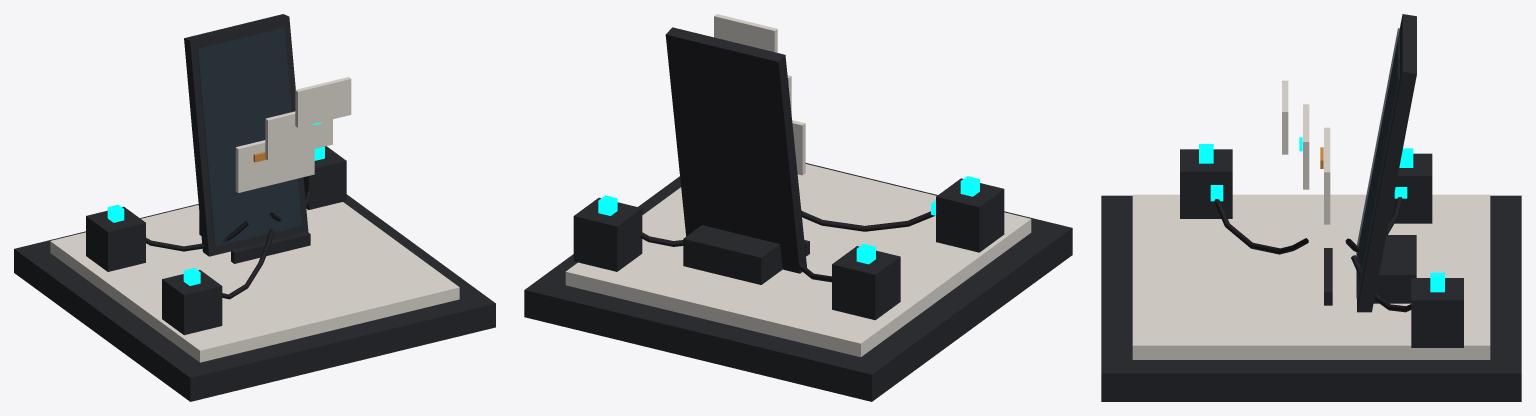
File: mobile_scene.glb
The picture shows the model from 3 angles, left to right: view 1: azimuth 30°, elevation 25°; view 2: azimuth 150°, elevation 25°; view 3: azimuth 270°, elevation 25°; orthographic projection. The views are drawn at different scales.
Visible parts, largest first — view 1: PROP_plinth, HERO_mobile_phone, PROP_mobile_phone_screen, PROP_network_node_01, PROP_network_node_00, PROP_ui_card_00, PROP_ui_card_01, PROP_ui_card_02, PROP_network_node_02, PROP_mobile_stand, PROP_network_cable_00, PROP_network_cable_01; view 2: PROP_plinth, HERO_mobile_phone, PROP_network_node_02, PROP_network_node_01, PROP_network_node_00, PROP_mobile_stand, PROP_ui_card_02, PROP_network_cable_01, PROP_ui_card_00; view 3: PROP_plinth, HERO_mobile_phone, PROP_network_node_02, PROP_network_node_01, PROP_mobile_stand, PROP_mobile_phone_screen, PROP_network_node_00, PROP_network_cable_01, PROP_ui_card_00, PROP_ui_card_01, PROP_ui_card_02, PROP_network_cable_02.
Part boxes in pixels (<box>): PROP_plinth: <box>14,194,495,401</box>; HERO_mobile_phone: <box>184,14,308,256</box>; PROP_mobile_phone_screen: <box>197,28,302,246</box>; PROP_network_node_01: <box>162,268,222,335</box>; PROP_network_node_00: <box>86,204,145,271</box>; PROP_ui_card_00: <box>235,140,314,192</box>; PROP_ui_card_01: <box>265,111,332,160</box>; PROP_ui_card_02: <box>295,77,351,127</box>; PROP_network_node_02: <box>303,146,346,209</box>; PROP_mobile_stand: <box>199,213,310,263</box>; PROP_network_cable_00: <box>146,221,248,251</box>; PROP_network_cable_01: <box>222,228,274,299</box>; PROP_plinth: <box>524,163,1072,401</box>; HERO_mobile_phone: <box>665,27,806,273</box>; PROP_network_node_02: <box>573,195,642,271</box>; PROP_network_node_01: <box>936,176,1004,252</box>; PROP_network_node_00: <box>832,243,900,320</box>; PROP_mobile_stand: <box>683,225,809,284</box>; PROP_ui_card_02: <box>714,14,777,52</box>; PROP_network_cable_01: <box>801,210,934,231</box>; PROP_ui_card_00: <box>792,120,805,175</box>; PROP_plinth: <box>1101,194,1521,401</box>; HERO_mobile_phone: <box>1357,14,1416,312</box>; PROP_network_node_02: <box>1411,272,1463,347</box>; PROP_network_node_01: <box>1180,144,1232,218</box>; PROP_mobile_stand: <box>1324,235,1416,305</box>; PROP_mobile_phone_screen: <box>1356,28,1399,298</box>; PROP_network_node_00: <box>1389,148,1432,223</box>; PROP_network_cable_01: <box>1210,189,1308,254</box>; PROP_ui_card_00: <box>1324,127,1330,224</box>; PROP_ui_card_01: <box>1303,104,1309,189</box>; PROP_ui_card_02: <box>1282,80,1288,154</box>; PROP_network_cable_02: <box>1351,255,1411,312</box>.
Size of the model in its own units: 4 by 2.98 by 4.
